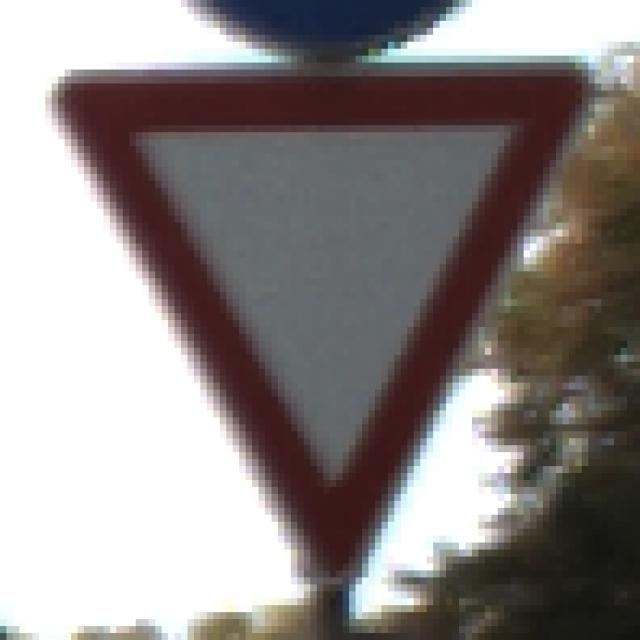Give Way: (53, 57, 589, 585)
